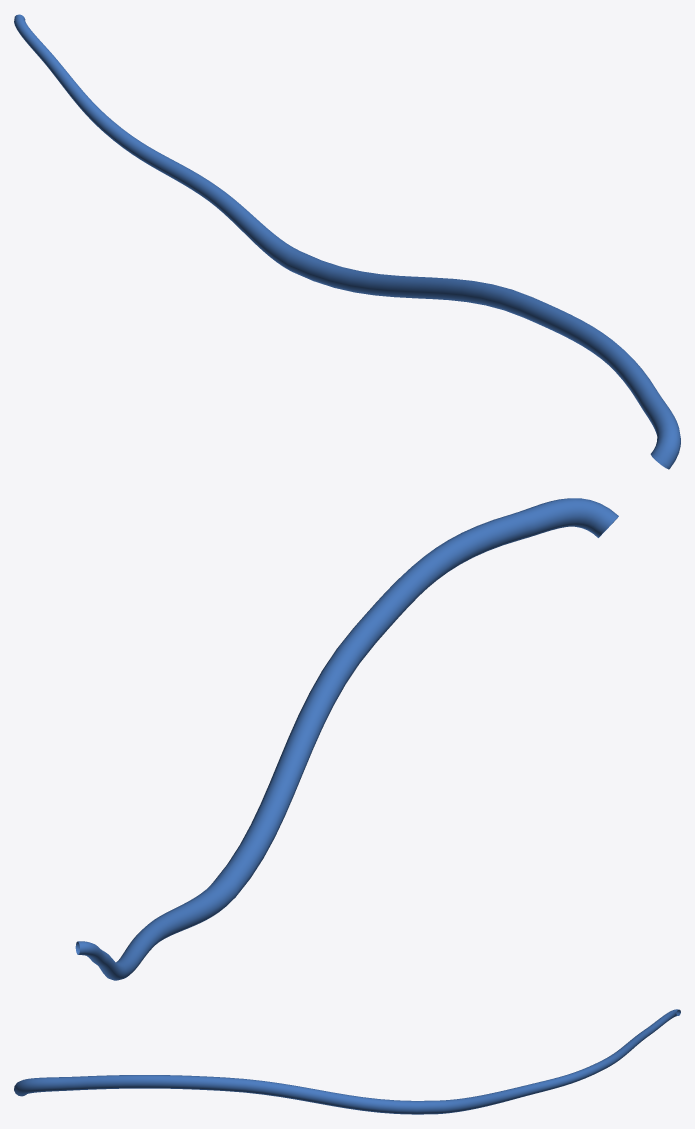
3 renders of one model, top to bottom at view 1: azimuth 30°, elevation 25°; view 2: azimuth 150°, elevation 25°; view 3: azimuth 270°, elevation 25°, orthographic. The views are drawn at different scales.
Parts seen in each view (by area): view 1: 肠系膜下静脉; view 2: 肠系膜下静脉; view 3: 肠系膜下静脉.
Part boxes in pixels (x1,y1,x2,y2): 肠系膜下静脉: (14, 14, 680, 469); 肠系膜下静脉: (75, 498, 618, 980); 肠系膜下静脉: (14, 1009, 680, 1114).
Size of the model in its own units: 0.0445 by 0.0345 by 0.2589.
